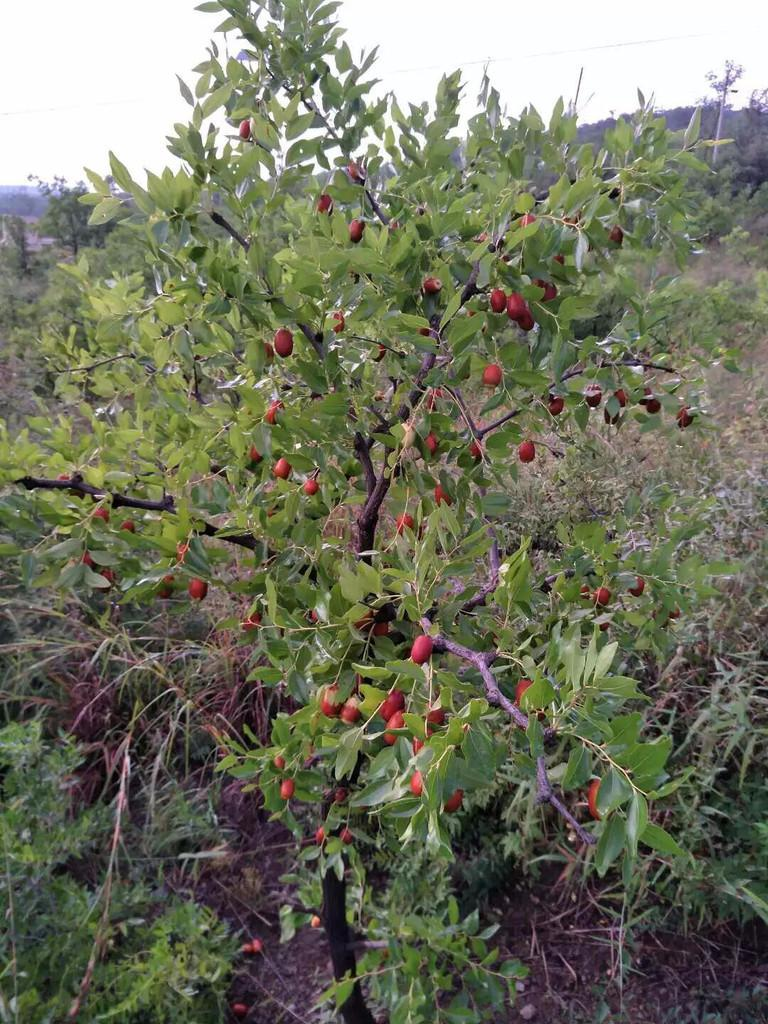apple: (408, 633, 432, 665), (340, 693, 361, 725), (273, 328, 295, 358), (507, 293, 526, 320)
